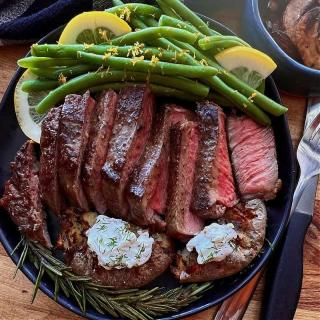meat: (2, 137, 280, 238), (64, 237, 264, 268), (47, 106, 217, 135), (62, 91, 217, 108), (92, 266, 242, 280), (218, 118, 281, 136)
steak: (0, 0, 302, 320)
veg: (15, 6, 281, 92), (90, 282, 214, 320), (13, 240, 63, 310), (217, 94, 287, 118), (14, 90, 46, 138), (62, 266, 90, 314), (46, 92, 62, 106)
